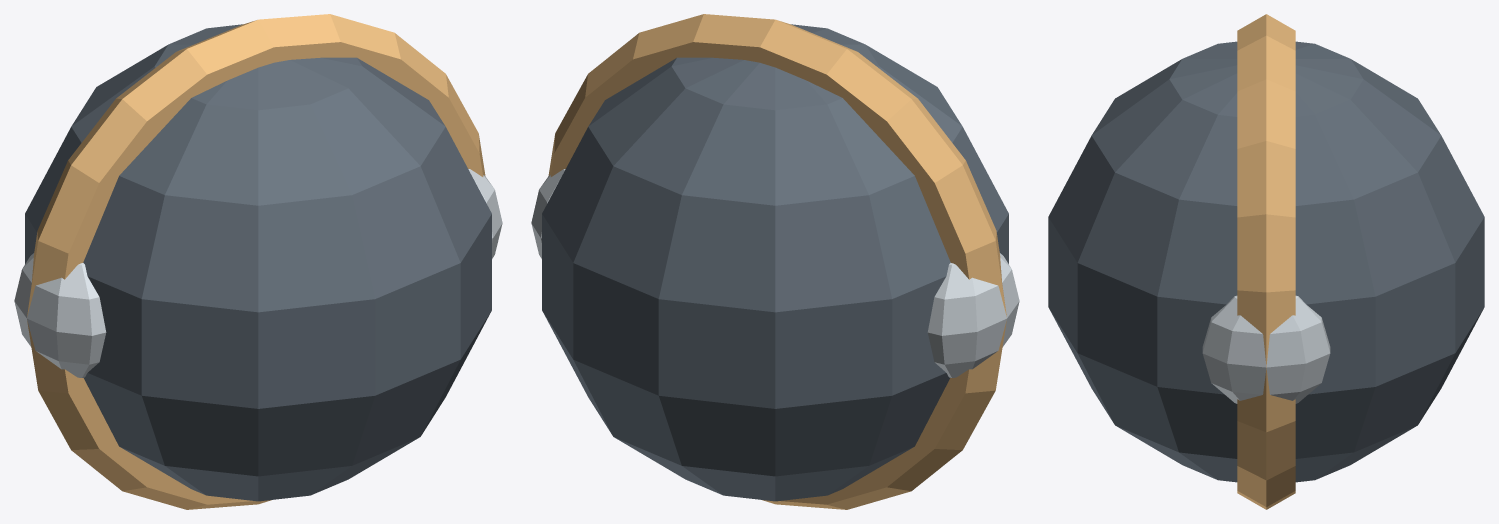
The model's file is brazo_articulacion.glb.
The picture shows the model from 3 angles, left to right: view 1: azimuth 30°, elevation 25°; view 2: azimuth 150°, elevation 25°; view 3: azimuth 270°, elevation 25°; orthographic projection. The views are drawn at different scales.
Parts seen in each view (by area): view 1: brazo_articulacion; view 2: brazo_articulacion; view 3: brazo_articulacion.
Boxes of the visible parts, bbox=[...] form: brazo_articulacion: bbox=[14, 14, 502, 509]; brazo_articulacion: bbox=[531, 14, 1019, 509]; brazo_articulacion: bbox=[1048, 14, 1484, 509].
Size of the model in its own units: 0.67 by 0.67 by 0.585.
